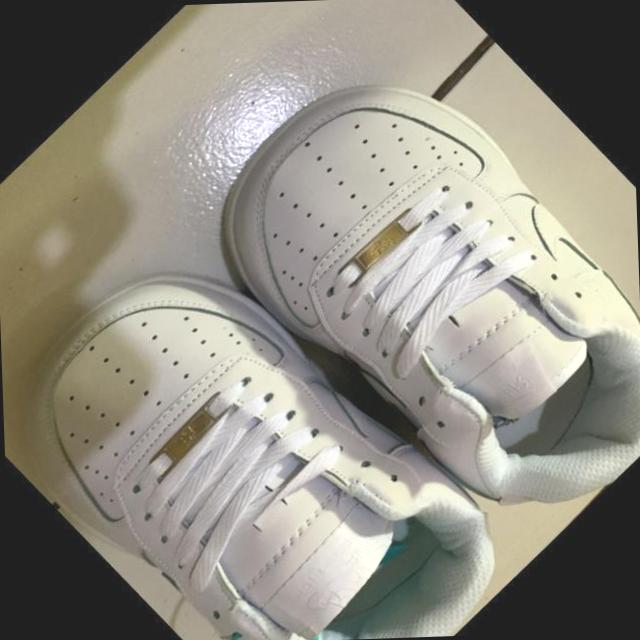nike_fake_airforce: (172, 10, 640, 581), (0, 195, 533, 640)
